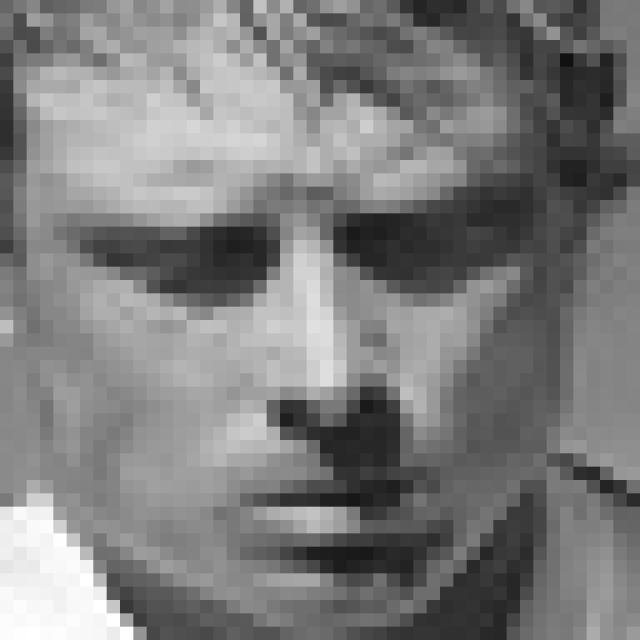sad: (52, 148, 545, 589)
